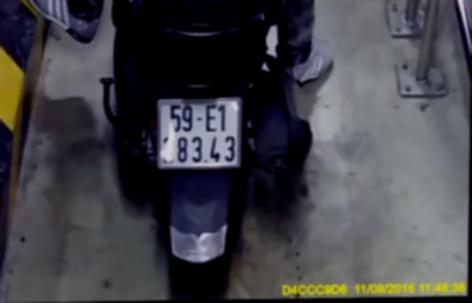License_Plate: (145, 94, 247, 177)
